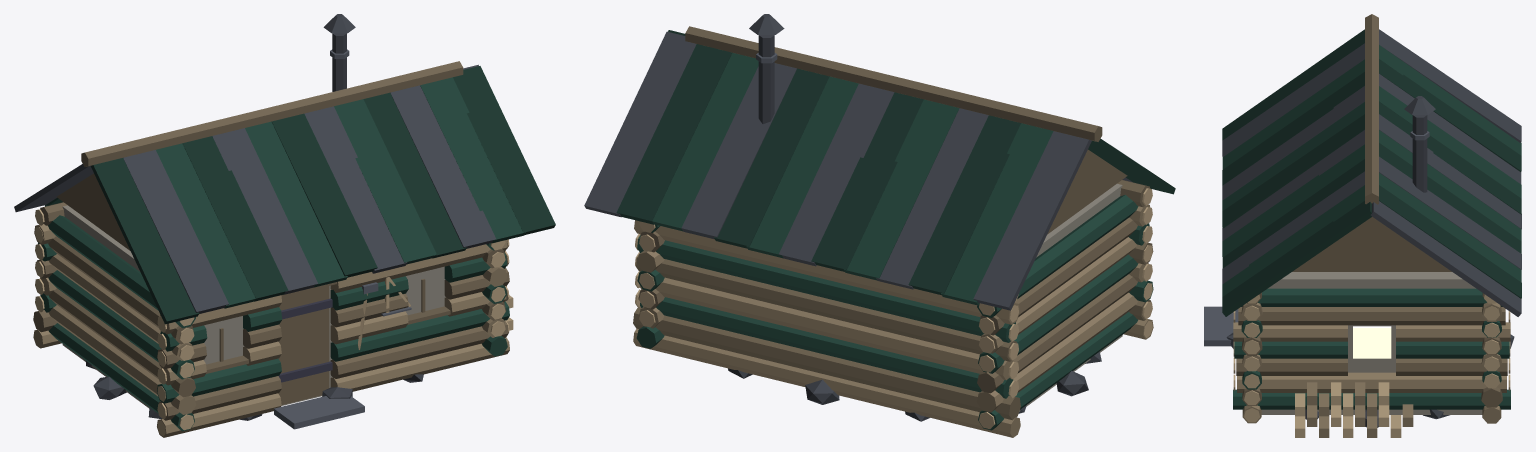
The model's file is bunkhouse.glb.
The picture shows the model from 3 angles, left to right: view 1: azimuth 30°, elevation 25°; view 2: azimuth 150°, elevation 25°; view 3: azimuth 270°, elevation 25°; orthographic projection. The views are drawn at different scales.
Visible parts, largest first — view 1: pine_d45, driftwood_d45, slate_d40, pine_d30, driftwood_d32, pine_d25, bone_d40, driftwood_d10, slate_d20, ink_l15; view 2: slate_d40, driftwood_d45, pine_d45, pine_d30, driftwood_d32, pine_d25, driftwood_d10, bone_d40; view 3: slate_d40, pine_d45, driftwood_d45, pine_d30, pine_d25, driftwood_d32, driftwood_d10, bone_d40, kindle_glow, slate_d20.
Boxes of the visible parts, x1,y1,x2,y2 form: pine_d45: [91, 66, 555, 324]; driftwood_d45: [33, 61, 509, 420]; slate_d40: [14, 14, 495, 420]; pine_d30: [45, 77, 525, 308]; driftwood_d32: [33, 224, 509, 437]; pine_d25: [38, 205, 509, 431]; bone_d40: [62, 205, 445, 415]; driftwood_d10: [35, 209, 513, 436]; slate_d20: [274, 49, 411, 429]; ink_l15: [278, 298, 332, 382]; slate_d40: [584, 14, 1132, 421]; driftwood_d45: [633, 26, 1153, 420]; pine_d45: [616, 30, 1175, 294]; pine_d30: [652, 52, 1053, 305]; driftwood_d32: [633, 204, 1153, 437]; pine_d25: [636, 195, 1153, 430]; driftwood_d10: [635, 188, 1152, 429]; bone_d40: [1019, 183, 1122, 411]; slate_d40: [1222, 29, 1521, 427]; pine_d45: [1222, 29, 1521, 316]; driftwood_d45: [1236, 14, 1507, 407]; pine_d30: [1222, 45, 1521, 296]; pine_d25: [1233, 288, 1510, 409]; driftwood_d32: [1233, 302, 1510, 437]; driftwood_d10: [1233, 294, 1510, 437]; bone_d40: [1261, 272, 1482, 414]; kindle_glow: [1353, 326, 1391, 358]; slate_d20: [1204, 131, 1429, 346].
Size of the model in its own units: 5.58 by 4.13 by 3.97.
